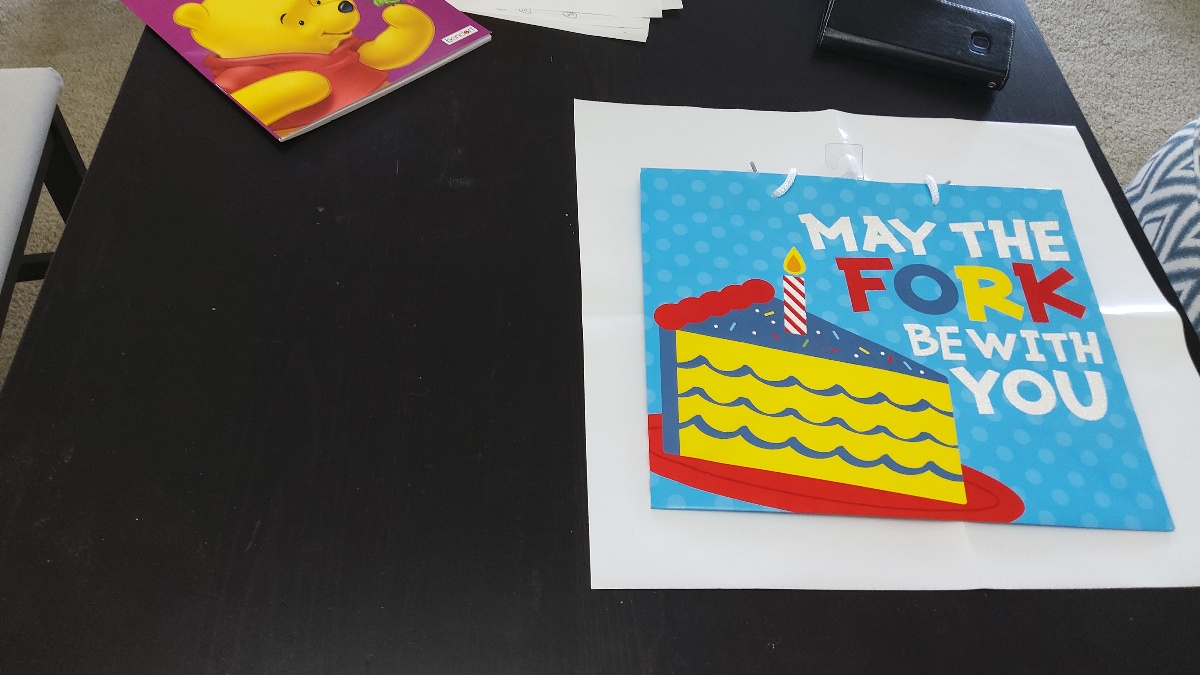paper_bag: (644, 170, 1162, 530)
